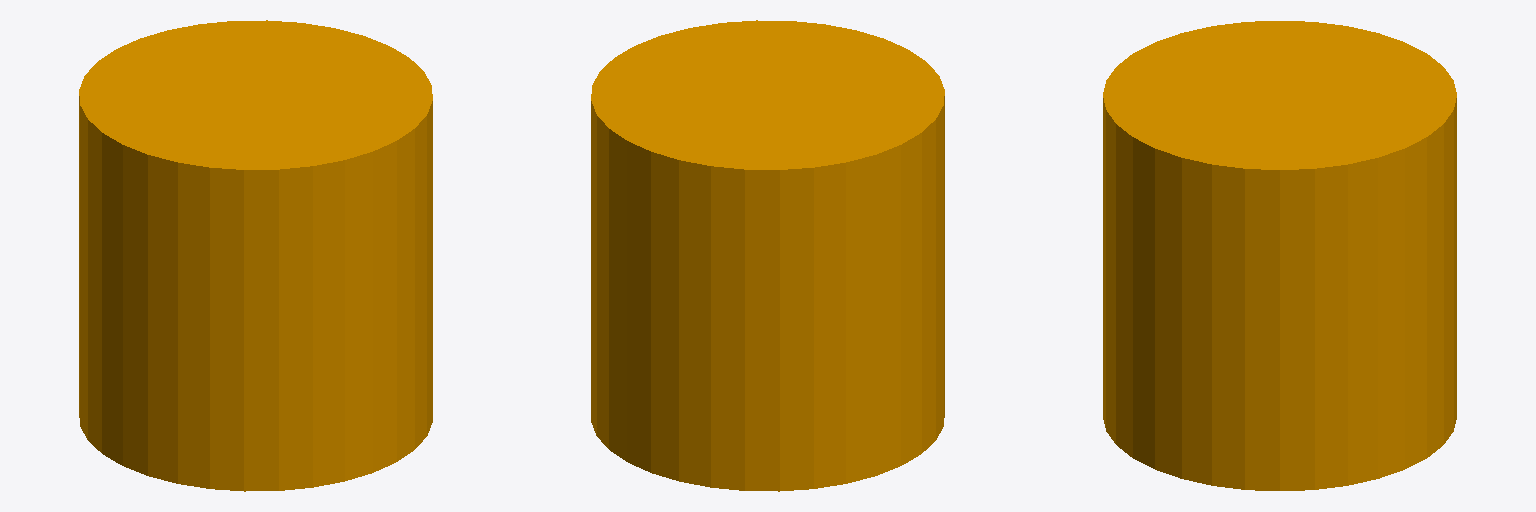
The robot description file, URDF, robot "object":
<?xml version="1.0"?>
<robot name="object">
  <link name="object">
    <visual>
      <origin xyz="0.0 0.0 0.0"/>
      <geometry>
        <mesh filename="cylinder_small.stl" scale="1.00 1.00 1.00"/>
      </geometry>
    </visual>
    <collision>
      <origin xyz="0.0 0.0 0.0"/>
      <geometry>
        <mesh filename="cylinder_small.stl" scale="1.00 1.00 1.00"/>
      </geometry>
    </collision>
  </link>
</robot>
    
                    

--- What the picture shows (computed from the rendered views, not written in the file) ---
3 views of the same robot in one strip: view 1: azimuth 30°, elevation 25°; view 2: azimuth 150°, elevation 25°; view 3: azimuth 270°, elevation 25° (orthographic).
Robot: object — 1 links, 0 joints (none); root link object; default pose: every joint at zero.
Links seen in each view (by area): view 1: object; view 2: object; view 3: object.
Boxes of the visible links, x1=… form: object: x1=79, y1=20, x2=432, y2=491; object: x1=591, y1=20, x2=944, y2=491; object: x1=1103, y1=21, x2=1456, y2=490.
Size in the robot's own frame: 0.04 by 0.04 by 0.04 metres.
Meshes: 1 distinct files referenced, 1 mesh visuals loaded (1 binary STL).
